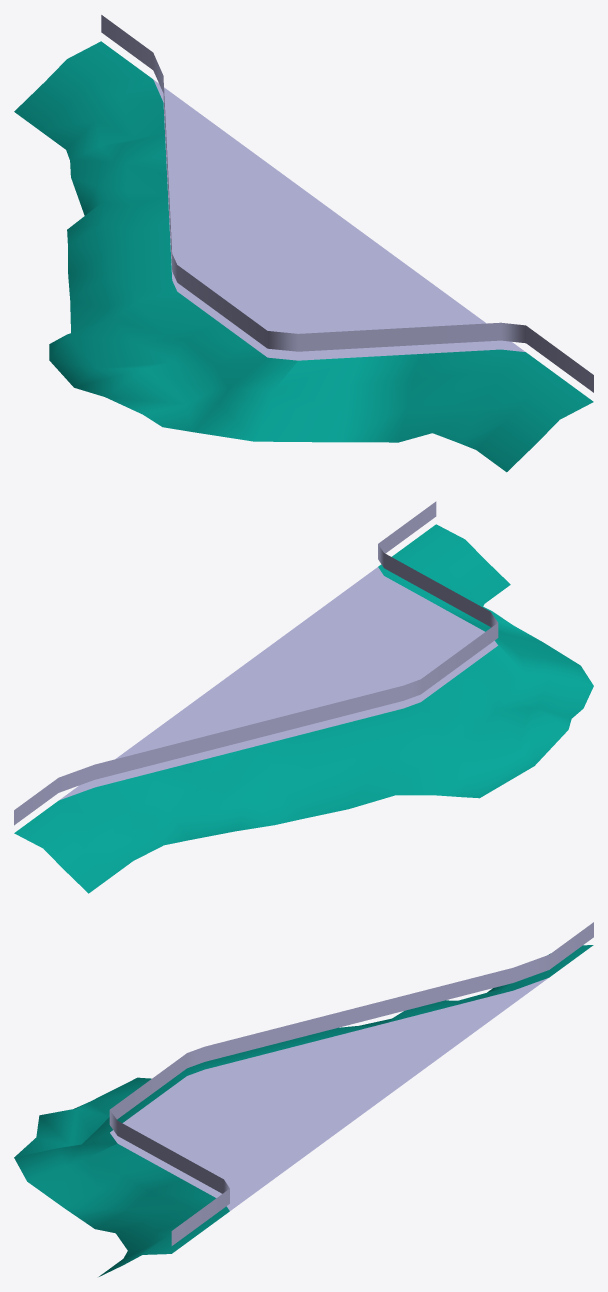
File: braccianoRestStop.fbx
3 renders of one model, top to bottom at view 1: azimuth 30°, elevation 25°; view 2: azimuth 150°, elevation 25°; view 3: azimuth 330°, elevation 25°, orthographic. The views are drawn at different scales.
Parts seen in each view (by area): view 1: braccianoRestStop_6, braccianoRestStop_5, braccianoRestStop_guardrail_5; view 2: braccianoRestStop_6, braccianoRestStop_5, braccianoRestStop_guardrail_5; view 3: braccianoRestStop_5, braccianoRestStop_6, braccianoRestStop_guardrail_5.
Part boxes in pixels (x1,y1,x2,y2): braccianoRestStop_6: (14, 41, 593, 472); braccianoRestStop_5: (153, 79, 525, 360); braccianoRestStop_guardrail_5: (101, 15, 593, 392); braccianoRestStop_6: (14, 524, 593, 893); braccianoRestStop_5: (59, 567, 497, 800); braccianoRestStop_guardrail_5: (14, 501, 498, 825); braccianoRestStop_5: (110, 978, 548, 1210); braccianoRestStop_6: (14, 945, 593, 1276); braccianoRestStop_guardrail_5: (109, 922, 593, 1245).
Bounding box in the file's own units: 7.54 × 2.09 × 20.
